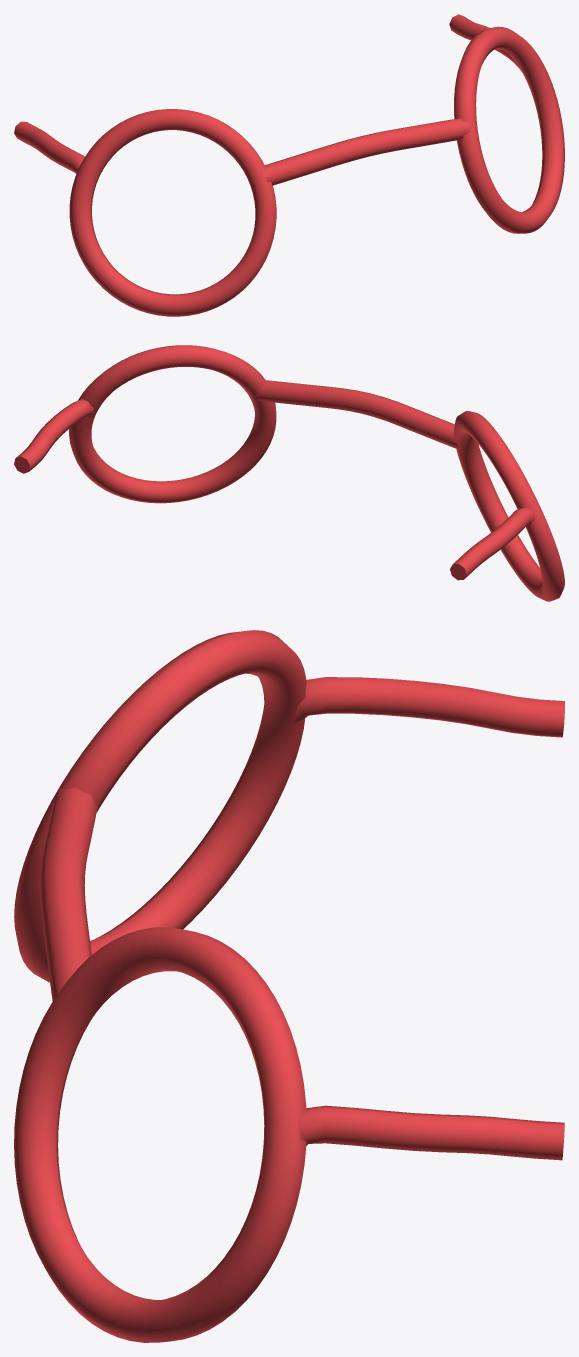
Rendered from glasses.glb.
The picture shows the model from 3 angles, top to bottom: view 1: azimuth 30°, elevation 25°; view 2: azimuth 150°, elevation 25°; view 3: azimuth 270°, elevation 25°; orthographic projection. The views are drawn at different scales.
Parts seen in each view (by area): view 1: rim_R, rim_L, bridge, temple_R, temple_L; view 2: rim_L, rim_R, bridge, temple_R, temple_L; view 3: rim_L, rim_R, temple_L, temple_R, bridge.
Part boxes in pixels (bbox=[...]): rim_R: bbox=[69, 109, 276, 316]; rim_L: bbox=[454, 26, 564, 233]; bridge: bbox=[262, 118, 470, 185]; temple_R: bbox=[14, 121, 84, 173]; temple_L: bbox=[449, 14, 521, 71]; rim_L: bbox=[69, 345, 276, 503]; rim_R: bbox=[453, 411, 564, 601]; bridge: bbox=[256, 380, 459, 449]; temple_R: bbox=[450, 507, 535, 580]; temple_L: bbox=[14, 399, 93, 473]; rim_L: bbox=[14, 927, 306, 1342]; rim_R: bbox=[14, 630, 306, 982]; temple_L: bbox=[298, 1105, 564, 1160]; temple_R: bbox=[293, 677, 564, 737]; bridge: bbox=[39, 787, 97, 1001].
Bounding box in the file's own units: 0.3353 × 0.1196 × 0.1655.
